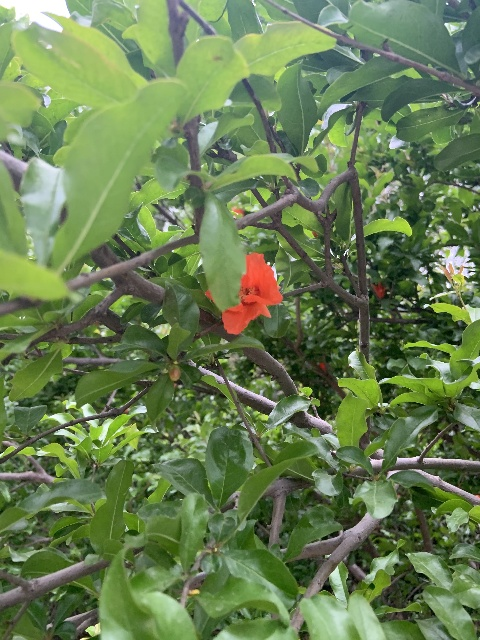bud: (168, 364, 181, 381)
flower: (205, 252, 283, 335), (372, 282, 386, 299)
